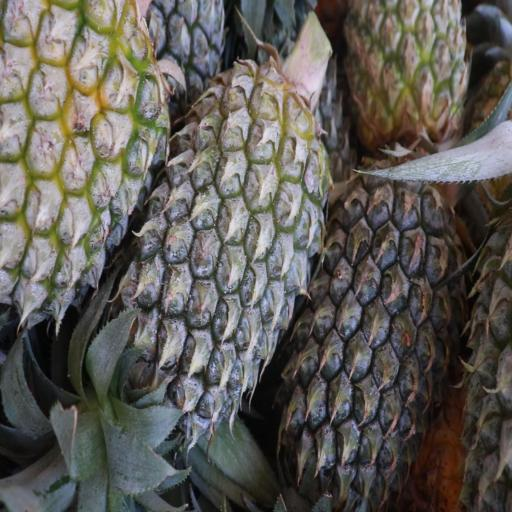------------------------------: (0, 1, 163, 307), (347, 0, 470, 137)
